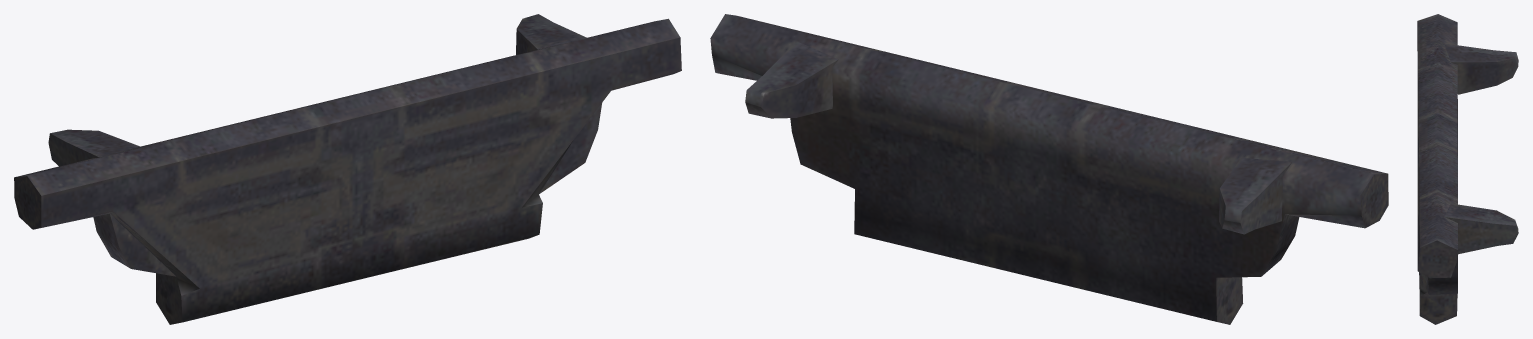
3 views of the same model, side by side, from view 1: azimuth 30°, elevation 25°; view 2: azimuth 150°, elevation 25°; view 3: azimuth 270°, elevation 25° (orthographic). The views are drawn at different scales.
Parts seen in each view (by area): view 1: set_0_group_0; view 2: set_0_group_0; view 3: set_0_group_0.
Boxes of the visible parts, x1,y1,x2,y2 form: set_0_group_0: (14, 14, 681, 324); set_0_group_0: (710, 14, 1388, 324); set_0_group_0: (1417, 14, 1518, 324).
Bounding box in the file's own units: 0.4552 × 0.1254 × 0.0854.
1 material, 1 textured.
